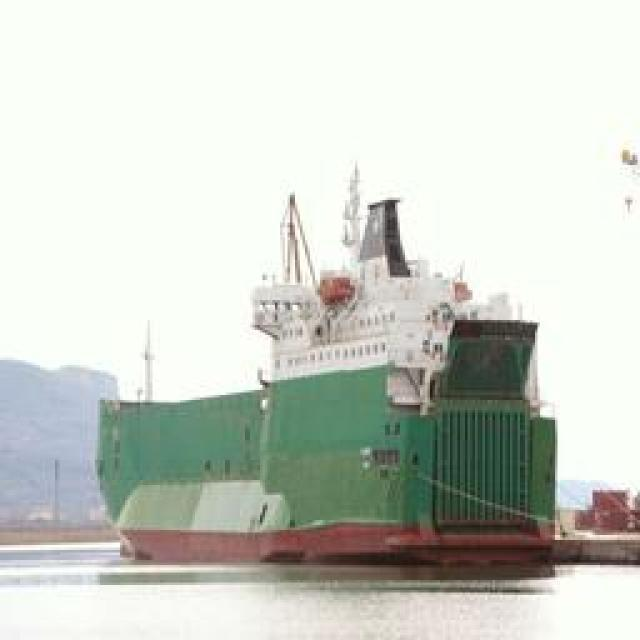ship2: (95, 160, 558, 576)
